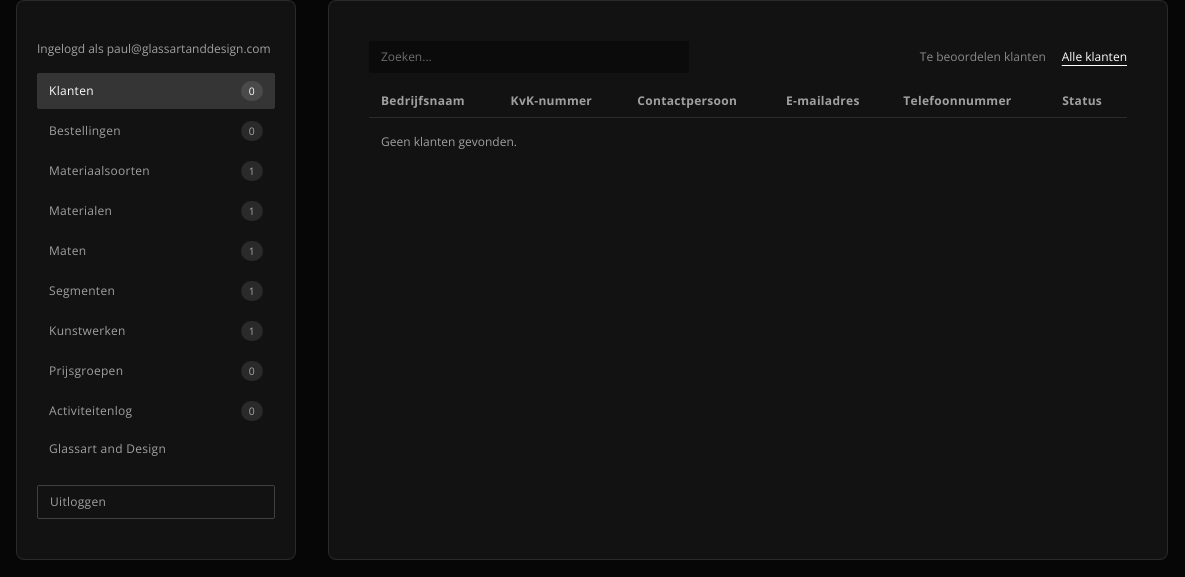
Test: BeheerShell › shows the materiaalsoort name in Materialen and the materialen count in the nav
Click the button with test id "beheer-nav-materialen": (156, 211) x1=37 y1=193 x2=275 y2=229
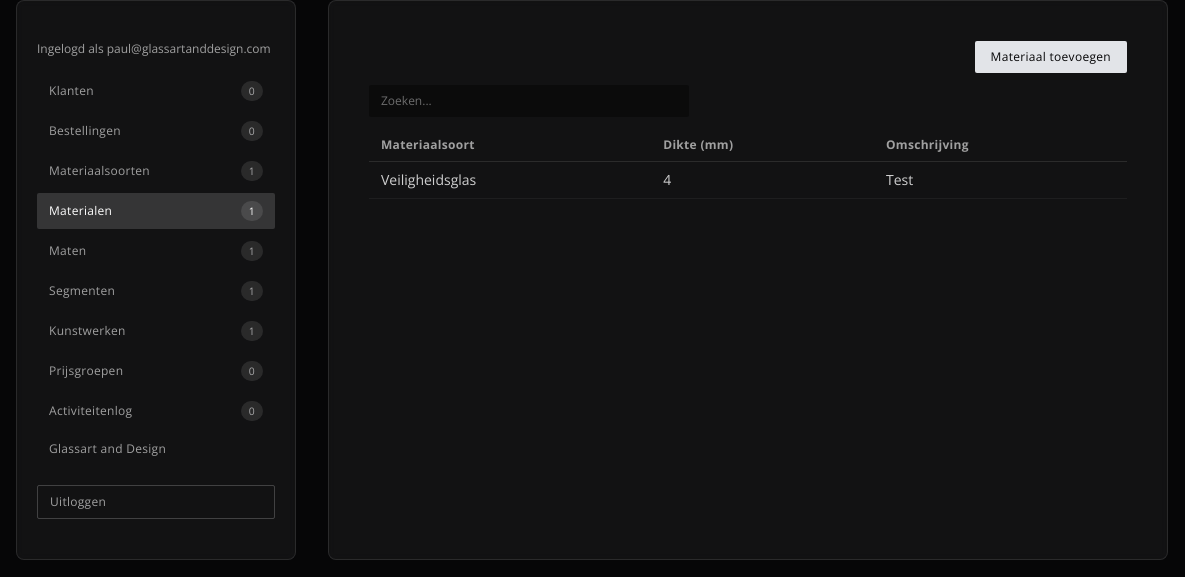
Now the element with test id "materialen-section" is shown, box x1=369 y1=41 x2=1127 y2=199
Now the row with test id "data-table-row-mat-1" shows "Veiligheidsglas", box x1=381 y1=170 x2=476 y2=189
